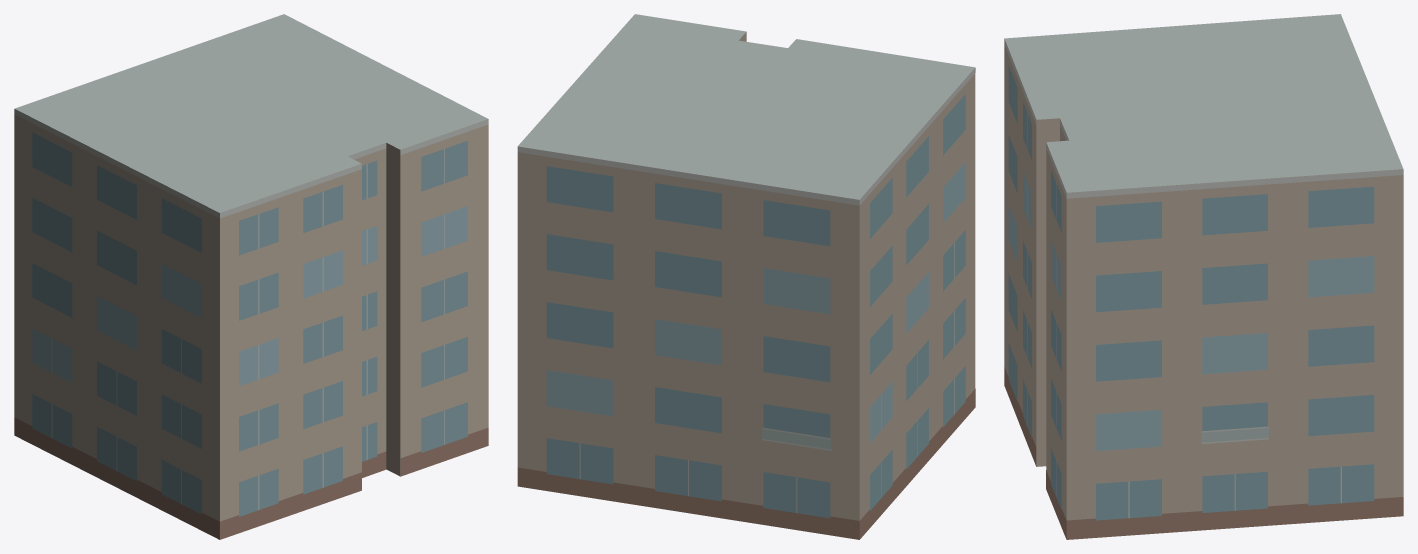
Rendered from survey-upis-32526557.glb.
3 views of the same model, side by side, from view 1: azimuth 30°, elevation 25°; view 2: azimuth 150°, elevation 25°; view 3: azimuth 270°, elevation 25° (orthographic). The views are drawn at different scales.
Visible parts, largest first — view 1: survey-upis-32526557.tmp; view 2: survey-upis-32526557.tmp; view 3: survey-upis-32526557.tmp.
Part boxes in pixels (box(x1,y1,x2,y2)): survey-upis-32526557.tmp: box(14, 14, 488, 539); survey-upis-32526557.tmp: box(517, 14, 975, 539); survey-upis-32526557.tmp: box(1004, 14, 1403, 539).
Size of the model in its own units: 16.03 by 14.5 by 15.12.
